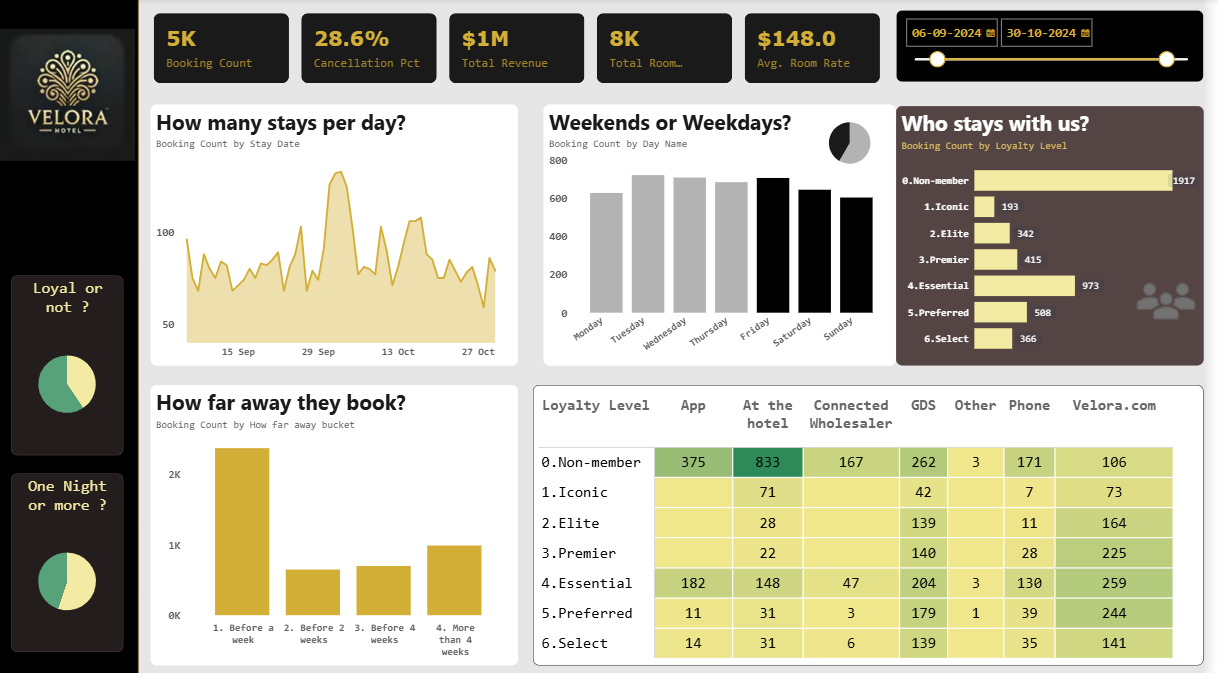

The dashboard page shown, as its layout file describes it:
{"tool":"powerbi","page":{"name":"Bookings Report BLANK","canvas":[1920,1080],"ordinal":0},"visuals":[{"type":"cardVisual","fields":{"Data":["bookings.Booking Count","bookings.Cancellation Pct","bookings.Total Revenue","bookings.Total Room Nights","bookings.Avg. Room Rate"]},"box":[245.7,19.1,1169.1,121.7],"z":0},{"type":"shape","box":[0,0,226.7,1080.8],"z":1000},{"type":"image","box":[0,19.1,226.7,269.6],"z":2000},{"type":"lineChart","title":"How many stays per day?","fields":{"Category":["bookings.Stay Date"],"Y":["bookings.Booking Count"]},"box":[245.7,169.4,584.5,415.1],"z":3000},{"type":"slicer","fields":{"Values":["bookings.Stay Date"]},"box":[1431.5,19.1,489.1,114.5],"z":4000},{"type":"clusteredColumnChart","title":"Weekends or Weekdays?","fields":{"Y":["bookings.Booking Count"],"Category":["bookings.Day Name"]},"box":[870.9,169.4,560.7,415.1],"z":5000},{"type":"clusteredBarChart","title":"Who stays with us?","fields":{"Category":["bookings.Loyalty Level"],"Y":["bookings.Booking Count"]},"box":[1431.5,171.8,489.1,412.8],"z":6000},{"type":"image","box":[1801.4,424.7,119.3,114.5],"z":7000},{"type":"clusteredColumnChart","title":"How far away they book?","fields":{"Category":["bookings.How far away bucket"],"Y":["bookings.Booking Count"]},"box":[245.7,615.6,584.5,446.2],"z":8000},{"type":"pivotTable","fields":{"Rows":["bookings.Loyalty Level"],"Columns":["bookings.Booking Channel"],"Values":["bookings.Booking Count"]},"box":[854.2,615.6,1066.5,446.2],"z":9000},{"type":"pieChart","fields":{"Y":["bookings.Weekday Booking %","bookings.Weekend Booking %"]},"box":[1300.3,171.8,114.5,116.9],"z":10000},{"type":"pieChart","title":"One Night or more ?","fields":{"Y":["bookings.Multi-night booking count","bookings.Single night booking count"]},"box":[23.9,756.3,178.9,283.9],"z":10001},{"type":"pieChart","title":"Loyal or not ?","fields":{"Y":["bookings.Not Loyal Customer Booking Count","bookings.Loyal Customer Booking Count"]},"box":[23.9,441.4,178.9,286.3],"z":10002}]}

Visuals, with their boxes in screenshot pixels (x1, y1, x2, y2), scaled from the page's 1920x1080 canvas onto the 1218x673 screenshot:
cardVisual - bookings.Booking Count x bookings.Cancellation Pct: 156,12,898,88
shape: 0,0,144,672
image: 0,12,144,180
"How many stays per day?" lineChart: 156,106,527,364
slicer - bookings.Stay Date: 908,12,1217,83
"Weekends or Weekdays?" clusteredColumnChart: 552,106,908,364
"Who stays with us?" clusteredBarChart: 908,107,1217,364
image: 1143,265,1217,336
"How far away they book?" clusteredColumnChart: 156,384,527,662
pivotTable - bookings.Loyalty Level x bookings.Booking Channel: 542,384,1217,662
pieChart - bookings.Weekday Booking % x bookings.Weekend Booking %: 825,107,898,180
"One Night or more ?" pieChart: 15,471,129,648
"Loyal or not ?" pieChart: 15,275,129,453
